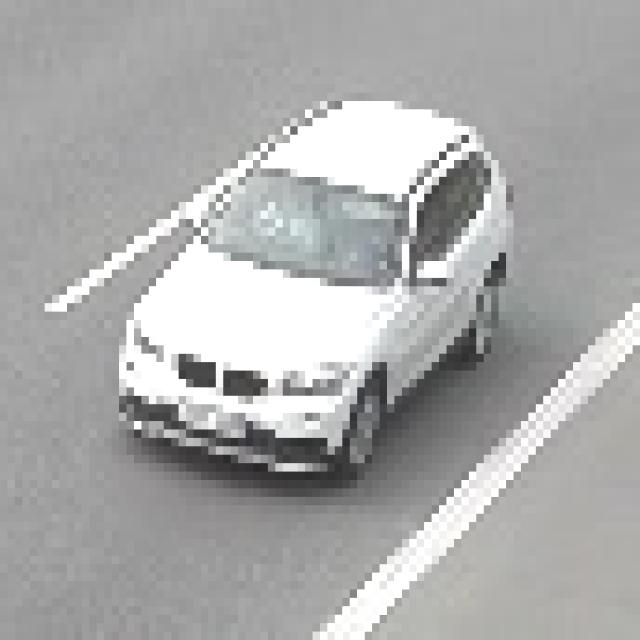SUV: (111, 115, 492, 442)
